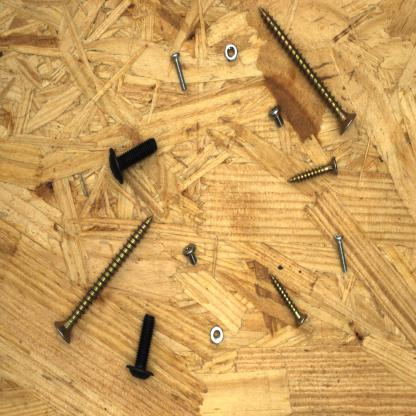screw: (52, 212, 156, 346), (258, 4, 360, 138), (106, 134, 160, 188), (268, 268, 311, 330), (124, 311, 157, 381), (285, 153, 341, 185), (169, 49, 189, 94), (332, 230, 350, 275), (180, 240, 201, 270), (266, 102, 286, 131)
